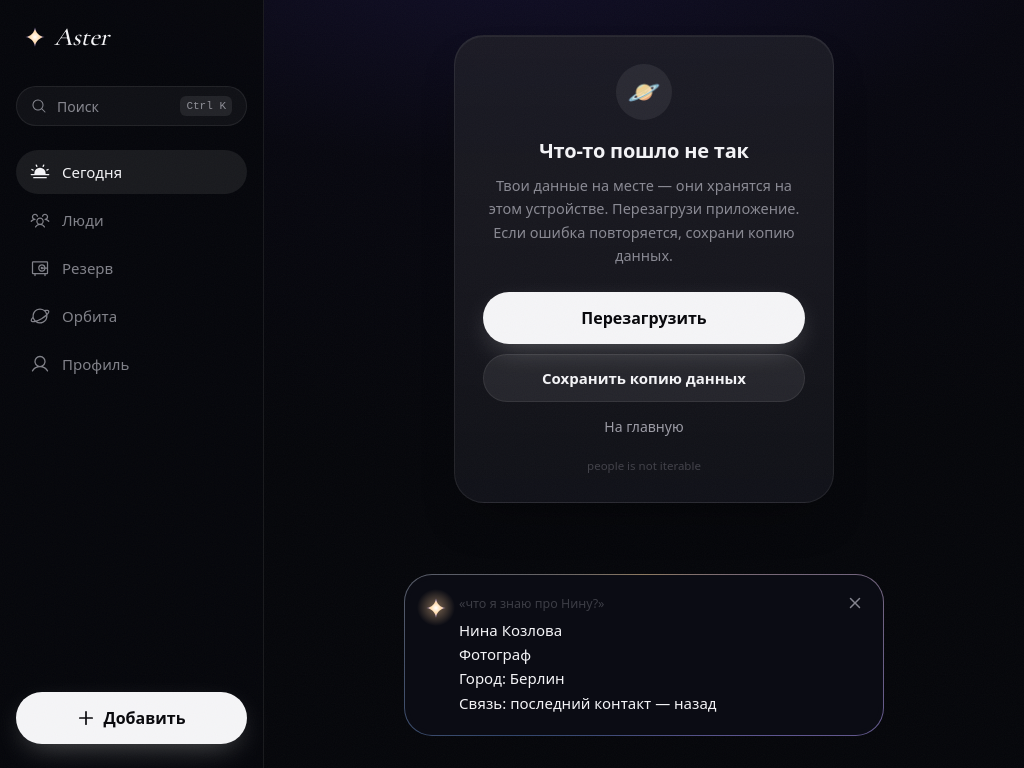
Test case: hands-free voice control › a question is answered on the screen and read aloud; the card can be closed
Check: the dialog shows "Нин", box [404,574,884,736]
What coordinates should you click on to do the following:
click the button named "Закрыть"
I would click on:
 (855, 603)
Its box is [847,595,863,611].
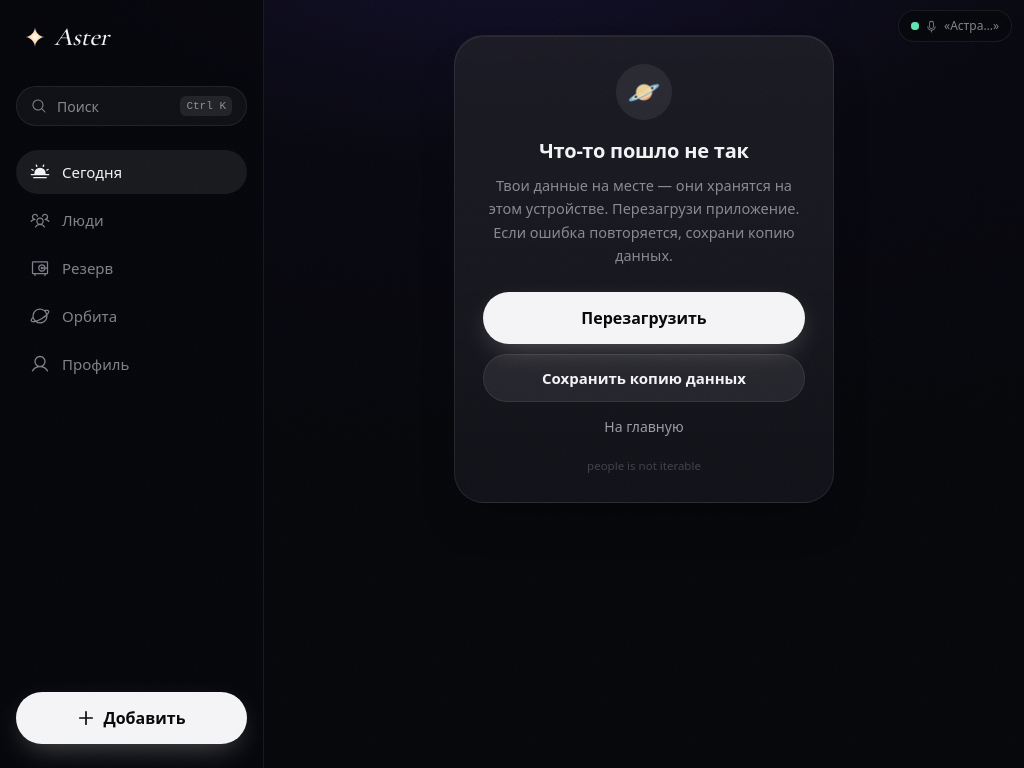
Check: the dialog is gone
